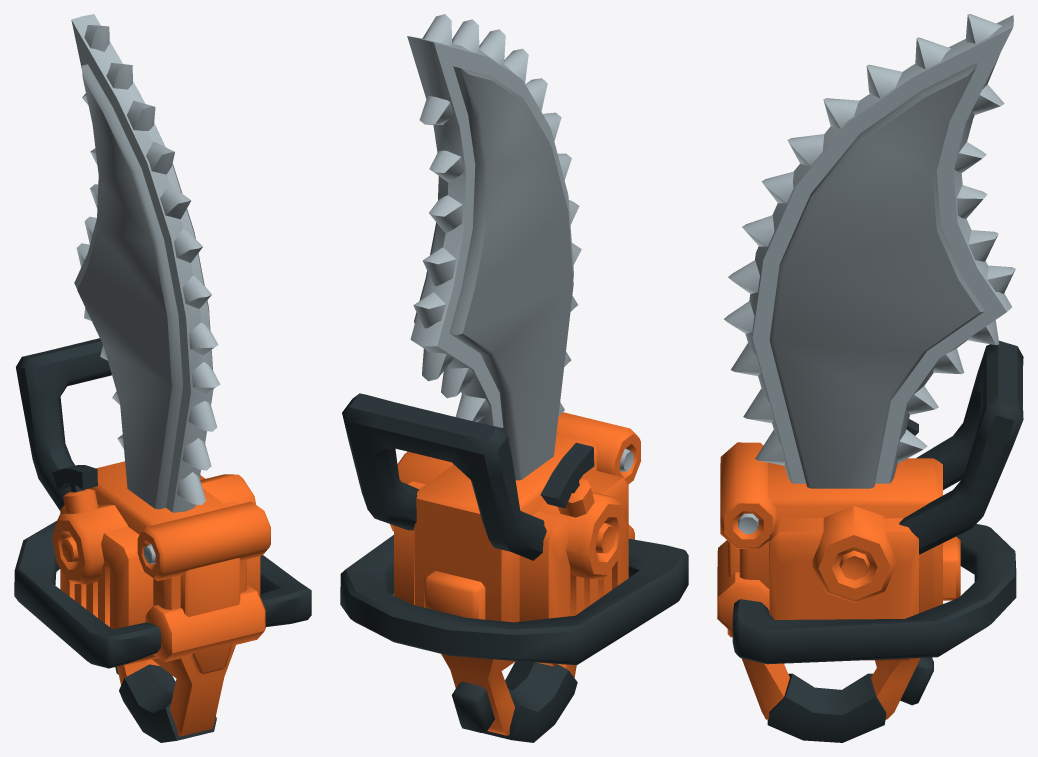
The model's file is chainsword_orange.gltf.glb.
3 renders of one model, left to right at view 1: azimuth 30°, elevation 25°; view 2: azimuth 150°, elevation 25°; view 3: azimuth 270°, elevation 25°, orthographic. The views are drawn at different scales.
Parts seen in each view (by area): view 1: chainsword_orange; view 2: chainsword_orange; view 3: chainsword_orange.
Boxes of the visible parts, <box> form: chainsword_orange: <box>14,14,311,742</box>; chainsword_orange: <box>340,14,688,742</box>; chainsword_orange: <box>717,14,1023,742</box>.
Bounding box in the file's own units: 0.517 × 1.5 × 0.5804.
